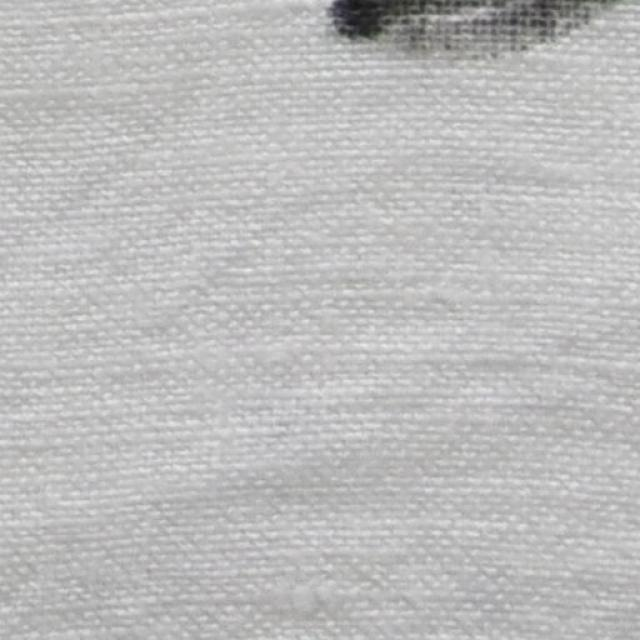Stain: (330, 0, 616, 53)
